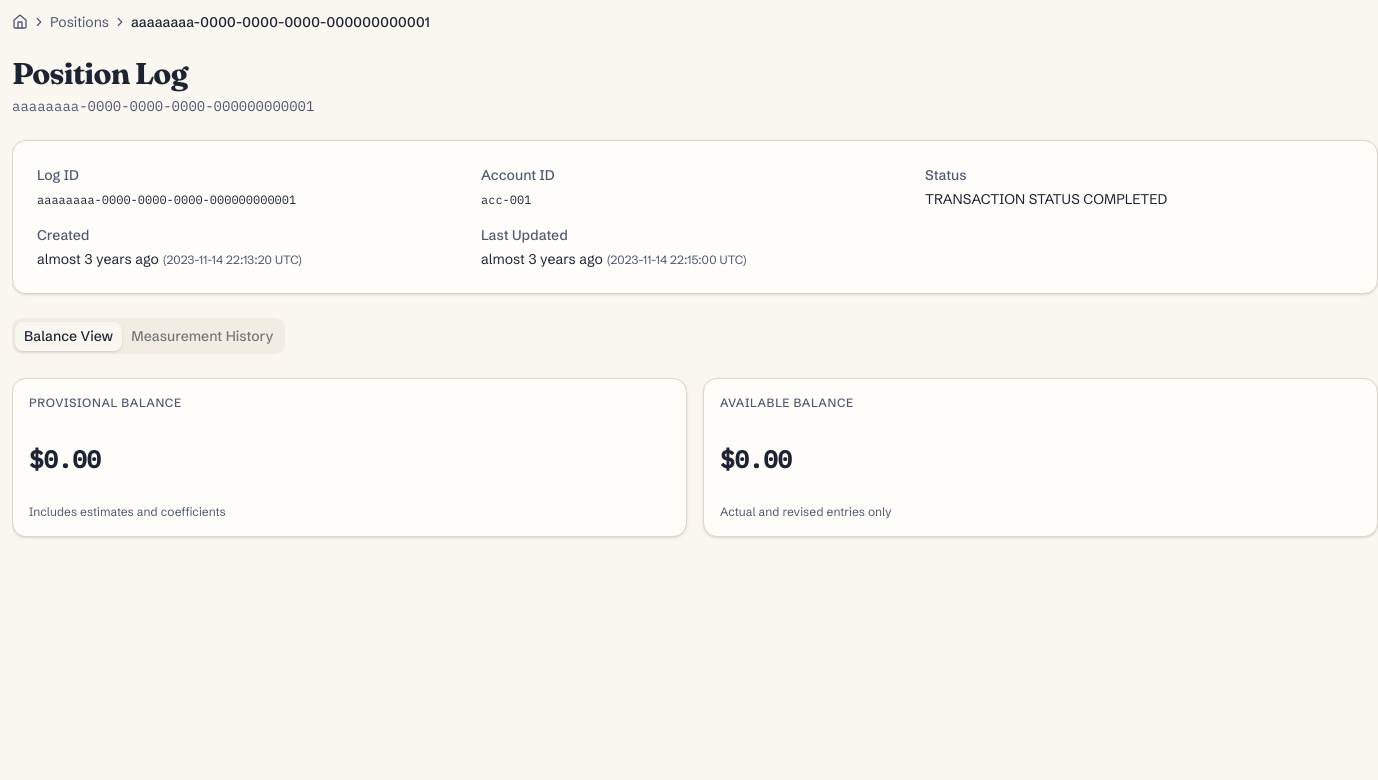
PositionDetailPage › shows empty measurement history when no entries
The image size is (1378, 780).
Click the tab "Measurement History".
click(202, 336)  # box x1=122 y1=322 x2=282 y2=350
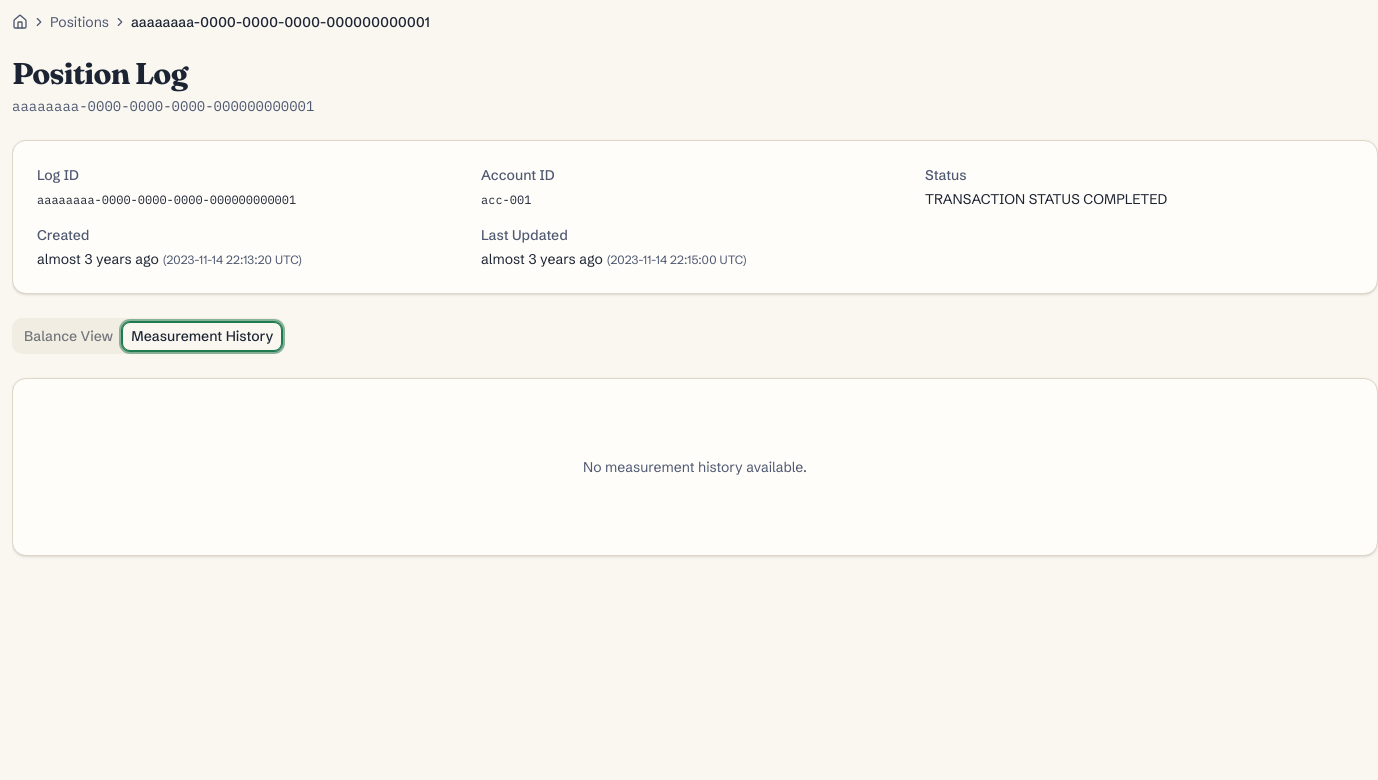
Expected: the text "No measurement history available." is shown, x1=583 y1=458 x2=807 y2=476
